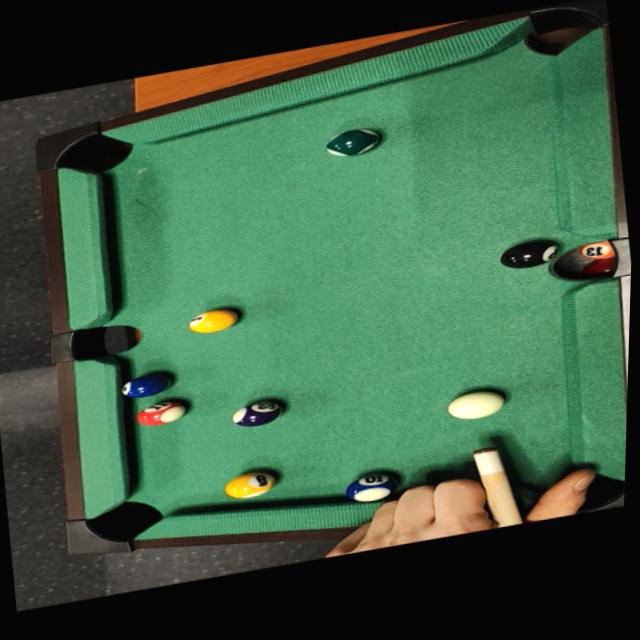cue ball: (443, 385, 509, 426)
other: (493, 232, 567, 274), (320, 121, 388, 164), (219, 465, 281, 505), (180, 301, 242, 340), (229, 394, 289, 434), (112, 368, 175, 405), (338, 468, 396, 507), (134, 395, 190, 432)
